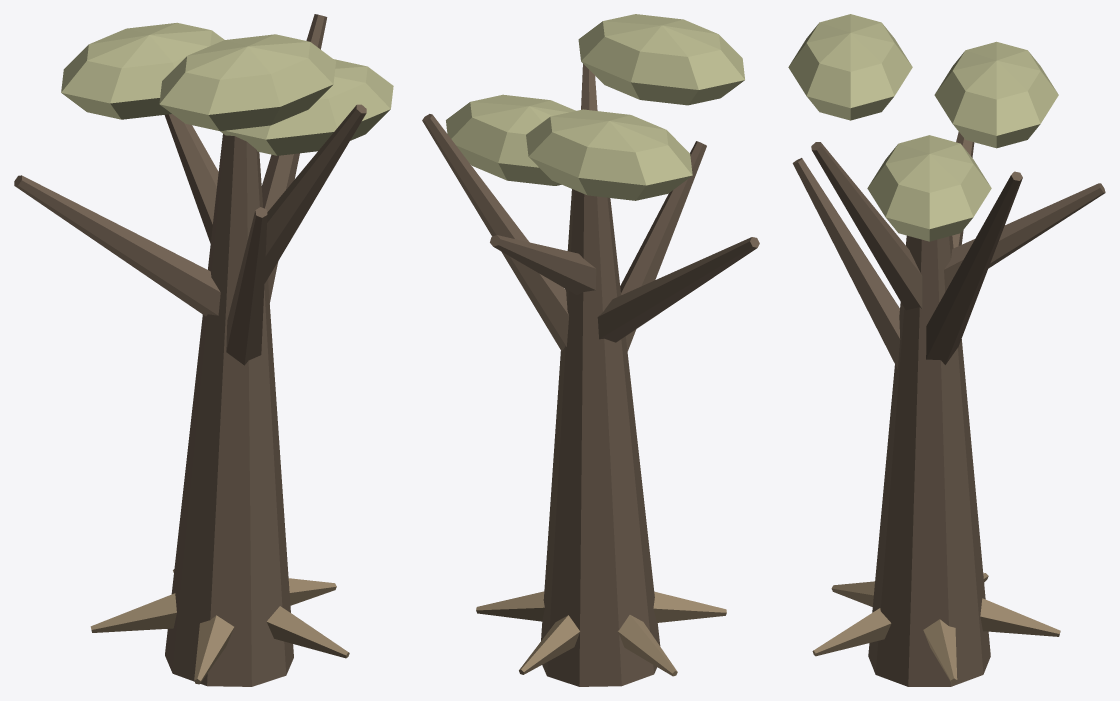
Rendered from crown_tree.glb.
The picture shows the model from 3 angles, left to right: view 1: azimuth 30°, elevation 25°; view 2: azimuth 150°, elevation 25°; view 3: azimuth 270°, elevation 25°; orthographic projection. The views are drawn at different scales.
Visible parts, largest first — view 1: crown_tree; view 2: crown_tree; view 3: crown_tree.
Part boxes in pixels (bbox=[...]): crown_tree: bbox=[14, 14, 393, 686]; crown_tree: bbox=[422, 14, 759, 686]; crown_tree: bbox=[788, 14, 1105, 686].
Size of the model in its own units: 0.5622 by 0.9869 by 0.4588.
